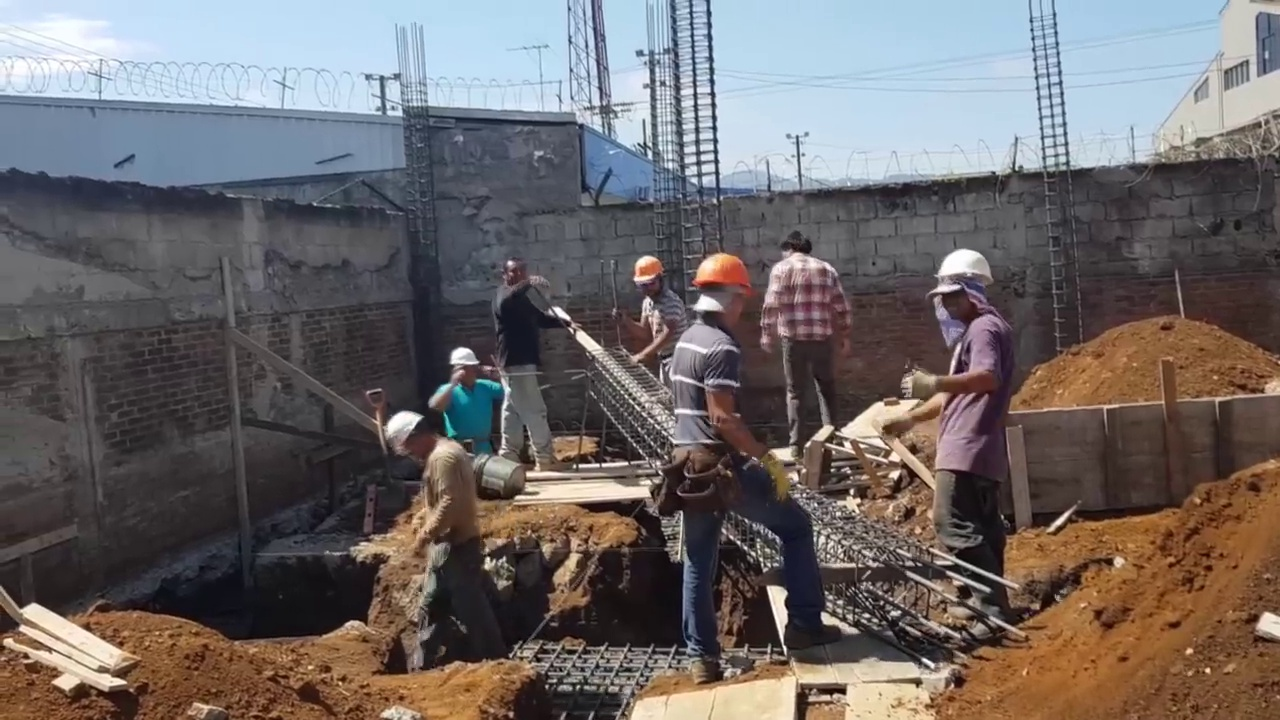helmet: (695, 256, 752, 297), (384, 408, 426, 460), (934, 252, 992, 288), (635, 257, 665, 284), (446, 347, 481, 367)
helmet-off: (780, 230, 819, 266), (498, 258, 524, 286)
helmet-on: (684, 242, 753, 331), (929, 247, 997, 332), (385, 413, 444, 468), (446, 346, 485, 391), (633, 258, 668, 302)
person: (659, 243, 781, 687), (913, 240, 1016, 651), (378, 398, 511, 673), (404, 377, 517, 673), (756, 227, 847, 454), (489, 257, 579, 473), (426, 341, 511, 457), (629, 257, 681, 380)
